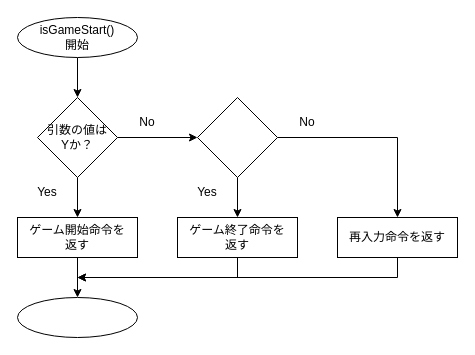
Some shapes in this 475 by 355 pixel diagram are drawn without their labels. Each missing label, with the centre of its shape:
"isGameStart() 終了" belongs at pixel 77 317.
"引数の値は Nか？" belongs at pixel 237 137.
